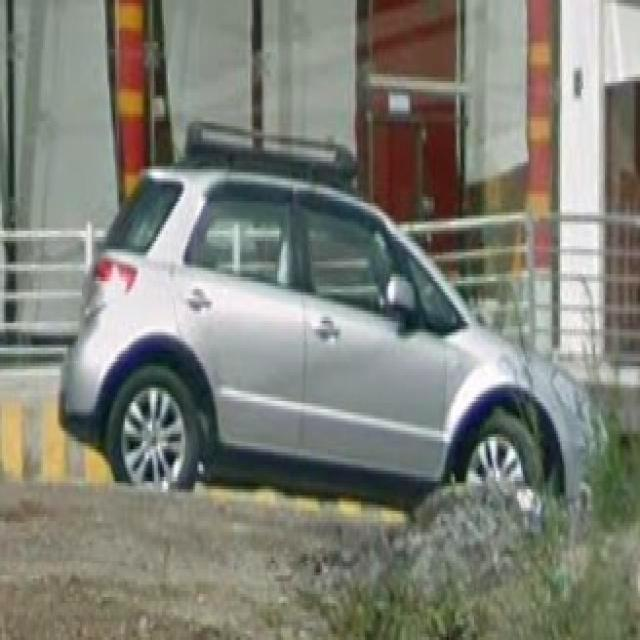Car: (68, 166, 596, 518)
